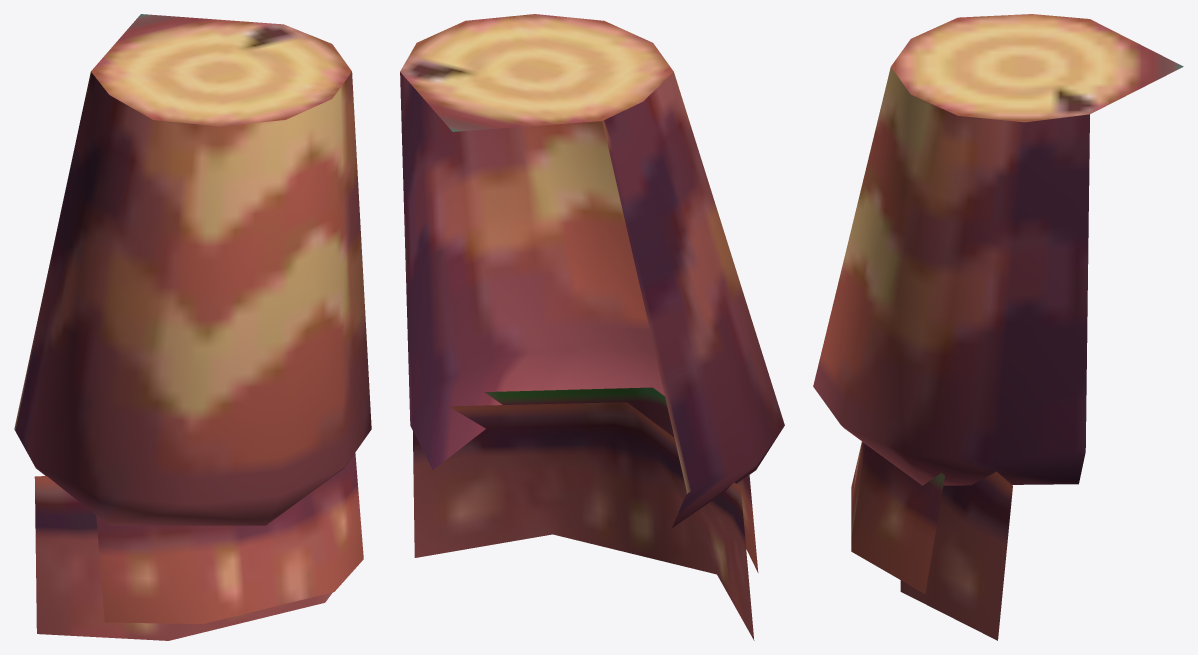
The model's file is fg_treeC_3_b.dae.
3 views of the same model, side by side, from view 1: azimuth 30°, elevation 25°; view 2: azimuth 150°, elevation 25°; view 3: azimuth 270°, elevation 25° (orthographic). The views are drawn at different scales.
Visible parts, largest first — view 1: fg_treeC_3_b; view 2: fg_treeC_3_b; view 3: fg_treeC_3_b.
Part boxes in pixels (x1,y1,x2,y2): fg_treeC_3_b: [14, 14, 371, 640]; fg_treeC_3_b: [400, 14, 784, 640]; fg_treeC_3_b: [813, 14, 1183, 640].
Size of the model in its own units: 16.99 by 25.19 by 16.56.
Materials: 1 (1 with a texture image).
